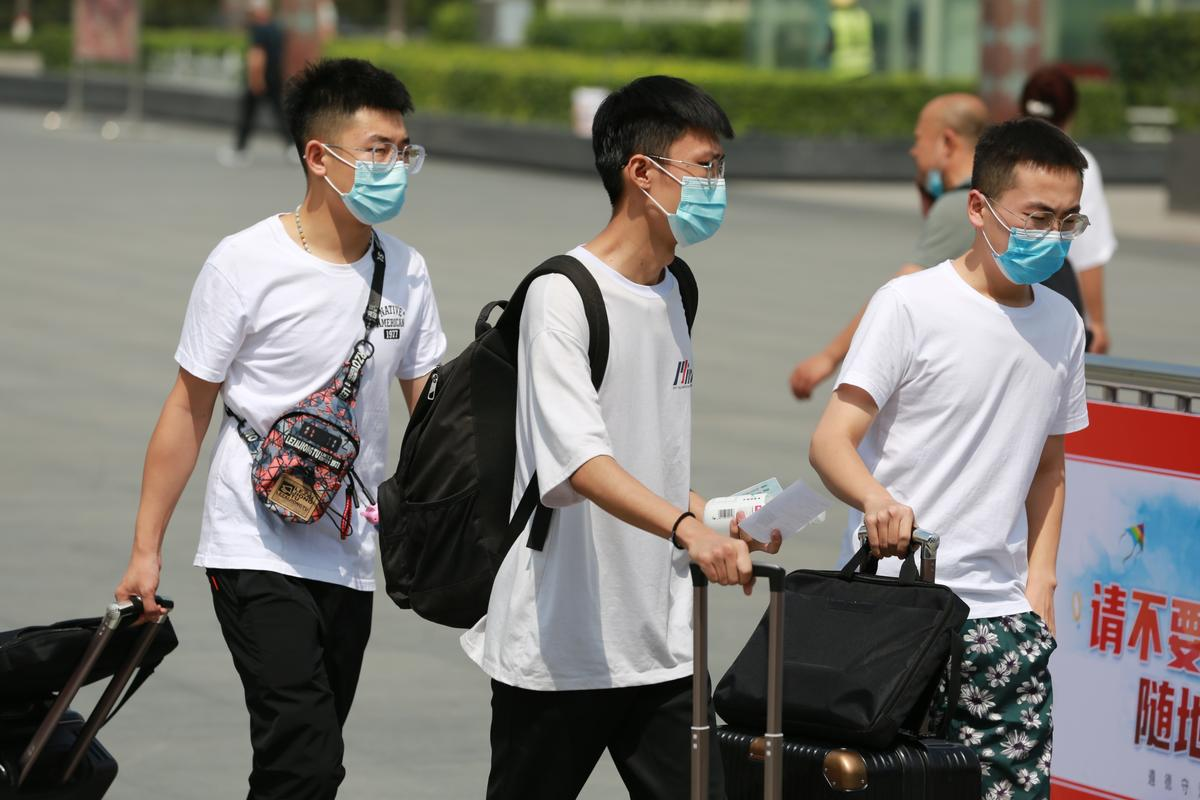mask: (994, 151, 1086, 292), (338, 102, 429, 238), (649, 116, 736, 243)
